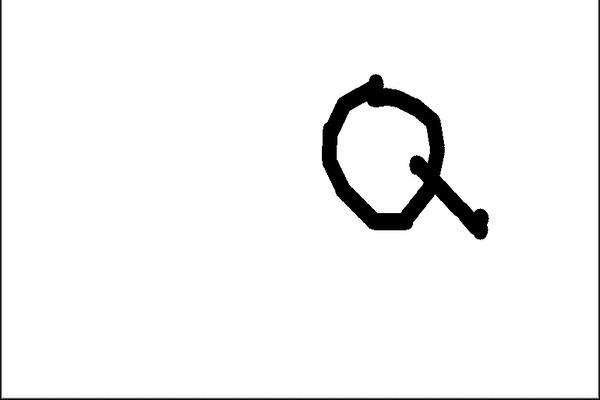Q: (308, 62, 491, 251)
